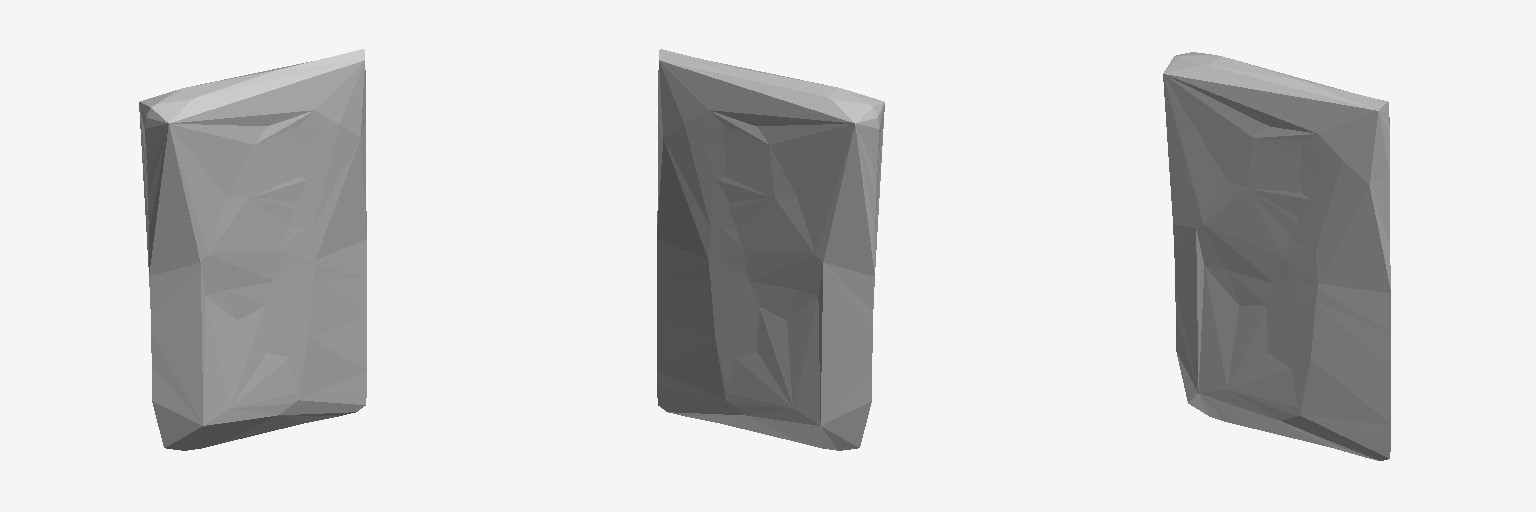
The model's file is look.obj.
3 renders of one model, left to right at view 1: azimuth 30°, elevation 25°; view 2: azimuth 150°, elevation 25°; view 3: azimuth 330°, elevation 25°, orthographic.
Visible parts, largest first — view 1: grp1; view 2: grp1; view 3: grp1.
Boxes of the visible parts, x1,y1,x2,y2 form: grp1: [139, 49, 366, 450]; grp1: [657, 49, 884, 450]; grp1: [1163, 52, 1390, 460].
Bounding box in the file's own units: 149 × 231 × 34.64.